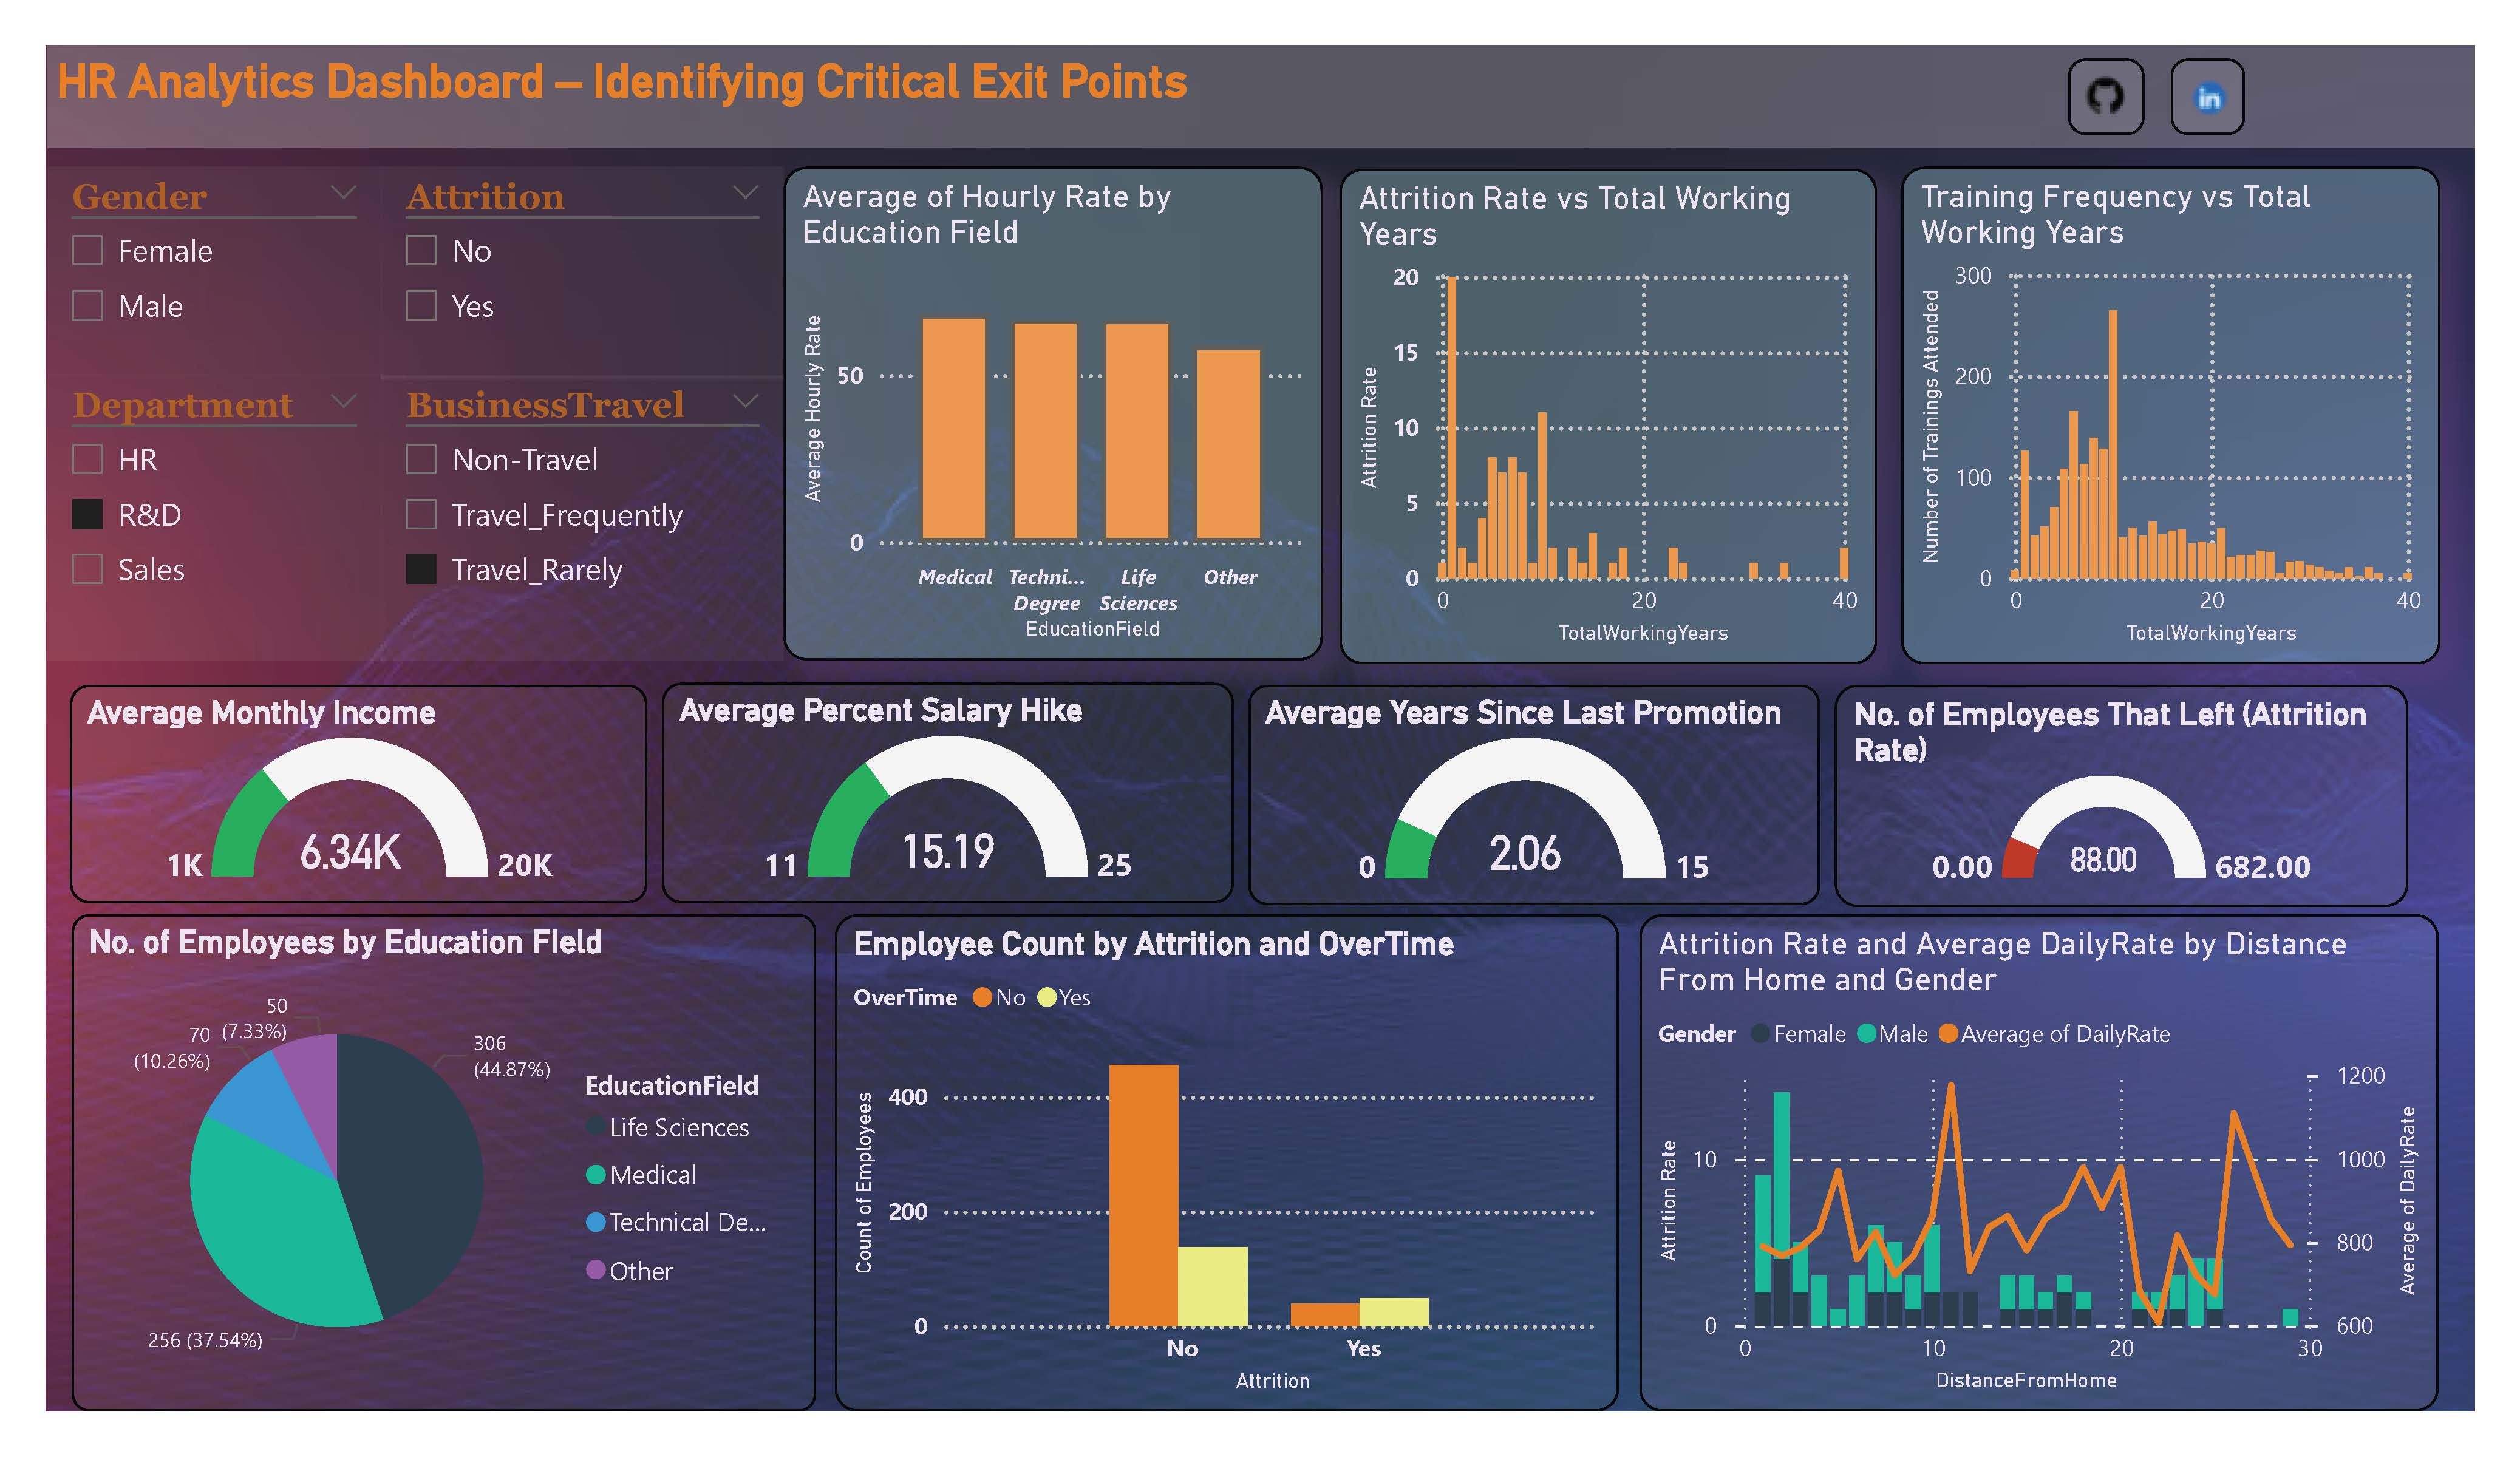

Layout of this report page (visuals, bound fields, positions):
{"tool":"powerbi","page":{"name":"Page 1","canvas":[1280,720],"ordinal":0},"visuals":[{"type":"textbox","box":[13.5,0,771.6,53.8],"z":0},{"type":"columnChart","title":"Average of Hourly Rate by Education Field","fields":{"Category":["Sheet1.EducationField"],"Y":["Avg(Sheet1.HourlyRate)"]},"box":[13.7,63.1,392.5,262.1],"z":1000},{"type":"pieChart","title":"No. of Employees by Education FIeld","fields":{"Category":["Sheet1.EducationField"],"Y":["Sum(Sheet1.EmployeeCount)"]},"box":[13.7,458.3,392.5,262.1],"z":2000},{"type":"clusteredColumnChart","title":"Attrition Rate vs Total Working Years","fields":{"Category":["Sheet1.TotalWorkingYears"],"Y":["Sum(Sheet1.Attrition Rate)"]},"box":[416.2,62.5,400,262.5],"z":3000},{"type":"gauge","title":"Average Monthly Income","fields":{"MinValue":["Min(Sheet1.MonthlyIncome)"],"MaxValue":["Max(Sheet1.MonthlyIncome)1"],"Y":["Avg(Sheet1.MonthlyIncome)2"]},"box":[13.8,333.8,302.5,117.5],"z":4000},{"type":"gauge","title":"Average Percent Salary Hike","fields":{"Y":["Avg(Sheet1.PercentSalaryHike)"],"MinValue":["Min(Sheet1.PercentSalaryHike)1"],"MaxValue":["Max(Sheet1.PercentSalaryHike)2"]},"box":[325.3,336.3,300.8,116.2],"z":5000},{"type":"treemap","title":"Employee Count by Attrition and OverTime","fields":{"Group":["Sheet1.Attrition"],"Details":["Sheet1.OverTime"],"Values":["CountNonNull(Sheet1.Department)"]},"box":[416.2,457.5,270,262.5],"z":6000},{"type":"gauge","title":"Average Years Since Last Promotion","fields":{"Y":["Avg(Sheet1.YearsSinceLastPromotion)"],"MinValue":["Min(Sheet1.YearsSinceLastPromotion)1"],"MaxValue":["Max(Sheet1.YearsSinceLastPromotion)2"]},"box":[634.2,336.7,300.8,115.8],"z":7000},{"type":"columnChart","title":"Training Frequency vs Total Working Years","fields":{"Category":["Sheet1.TotalWorkingYears"],"Y":["Sum(Sheet1.TrainingTimesLastYear)"]},"box":[827.5,62.5,421.2,262.5],"z":8000},{"type":"gauge","title":"No. of Employees That Left (Attrition Rate)","fields":{"Y":["Sum(Sheet1.Attrition Rate)"],"MinValue":["Min(Sheet1.Attrition Rate)"],"MaxValue":["CountNonNull(Sheet1.Attrition Rate)"]},"box":[945,337.5,303.8,116.2],"z":9000},{"type":"lineStackedColumnComboChart","title":"Attrition Rate and Average DailyRate by Distance From Home and Gender","fields":{"Y":["Sum(Sheet1.Attrition Rate)"],"Category":["Sheet1.DistanceFromHome"],"Y2":["Avg(Sheet1.DailyRate)"],"Series":["Sheet1.Gender"]},"box":[840,457.5,421.2,262.5],"z":10000},{"type":"kpi","title":"Job Satisfaction by Involvement","fields":{"Indicator":["Avg(Sheet1.JobSatisfaction)"],"TrendLine":["Sheet1.JobInvolvement"]},"box":[691.5,458.5,141.5,261.5],"z":11000}]}

Visuals, with their boxes on the page's 1280x720 design canvas (x1, y1, x2, y2). These are canvas units, not pixel positions in the 2520x1457 screenshot, which may show the page scaled, cropped or inside an application window:
textbox: box=[14, 0, 785, 54]
"Average of Hourly Rate by Education Field" columnChart: box=[14, 63, 406, 325]
"No. of Employees by Education FIeld" pieChart: box=[14, 458, 406, 720]
"Attrition Rate vs Total Working Years" clusteredColumnChart: box=[416, 62, 816, 325]
"Average Monthly Income" gauge: box=[14, 334, 316, 451]
"Average Percent Salary Hike" gauge: box=[325, 336, 626, 452]
"Employee Count by Attrition and OverTime" treemap: box=[416, 458, 686, 720]
"Average Years Since Last Promotion" gauge: box=[634, 337, 935, 452]
"Training Frequency vs Total Working Years" columnChart: box=[828, 62, 1249, 325]
"No. of Employees That Left (Attrition Rate)" gauge: box=[945, 338, 1249, 454]
"Attrition Rate and Average DailyRate by Distance From Home and Gender" lineStackedColumnComboChart: box=[840, 458, 1261, 720]
"Job Satisfaction by Involvement" kpi: box=[692, 458, 833, 720]
